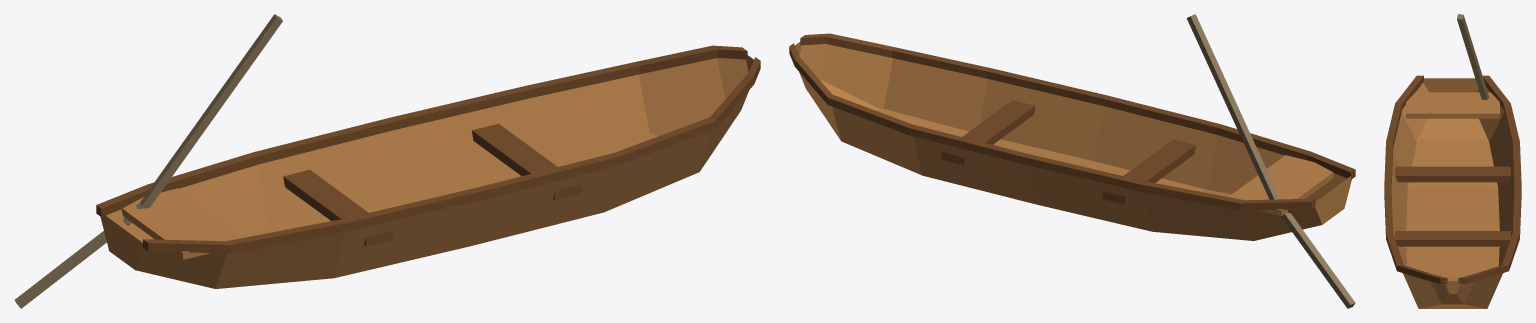
Rendered from skiff.fbx.
3 renders of one model, left to right at view 1: azimuth 30°, elevation 25°; view 2: azimuth 150°, elevation 25°; view 3: azimuth 270°, elevation 25°, orthographic. The views are drawn at different scales.
Visible parts, largest first — view 1: Skiff_Wood, Skiff_Trim, Skiff_Pole; view 2: Skiff_Wood, Skiff_Trim, Skiff_Pole; view 3: Skiff_Wood, Skiff_Trim, Skiff_Pole.
Part boxes in pixels (x1=…): Skiff_Wood: x1=100, y1=55, x2=753, y2=288; Skiff_Trim: x1=96, y1=45, x2=760, y2=253; Skiff_Pole: x1=14, y1=14, x2=282, y2=308; Skiff_Wood: x1=795, y1=42, x2=1353, y2=240; Skiff_Trim: x1=789, y1=33, x2=1355, y2=210; Skiff_Pole: x1=1186, y1=14, x2=1355, y2=308; Skiff_Wood: x1=1391, y1=78, x2=1514, y2=308; Skiff_Trim: x1=1384, y1=75, x2=1521, y2=283; Skiff_Pole: x1=1457, y1=14, x2=1489, y2=99.
Size of the model in its own units: 15.47 by 5.61 by 3.8.
